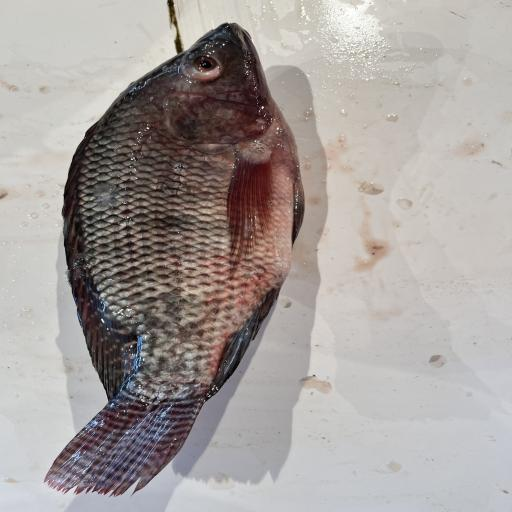Tilapia: (43, 22, 305, 498)
